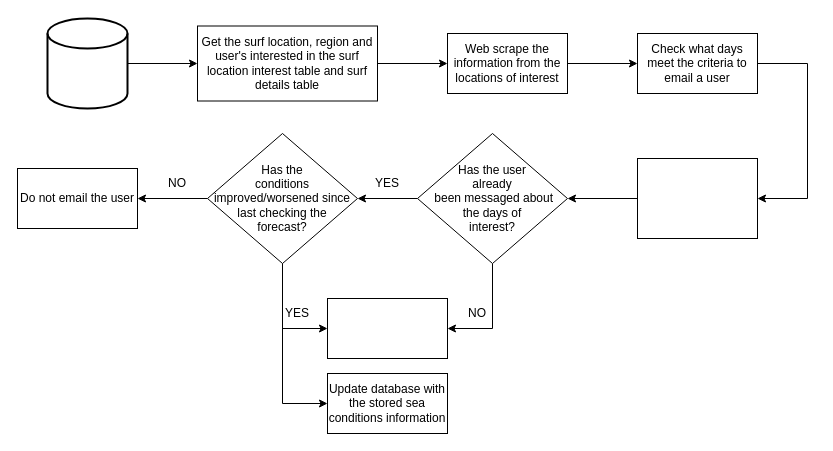
This 833x451 diagram has some shape labels left out. The shapes that lost their labels are listed below. From the top down, each one's centre as x and y in pixels, then its label:
At point 87,63: "Surf Database".
At point 697,198: "Collate the days that meet the criteria and that a user is interested".
At point 387,328: "Email the user".
